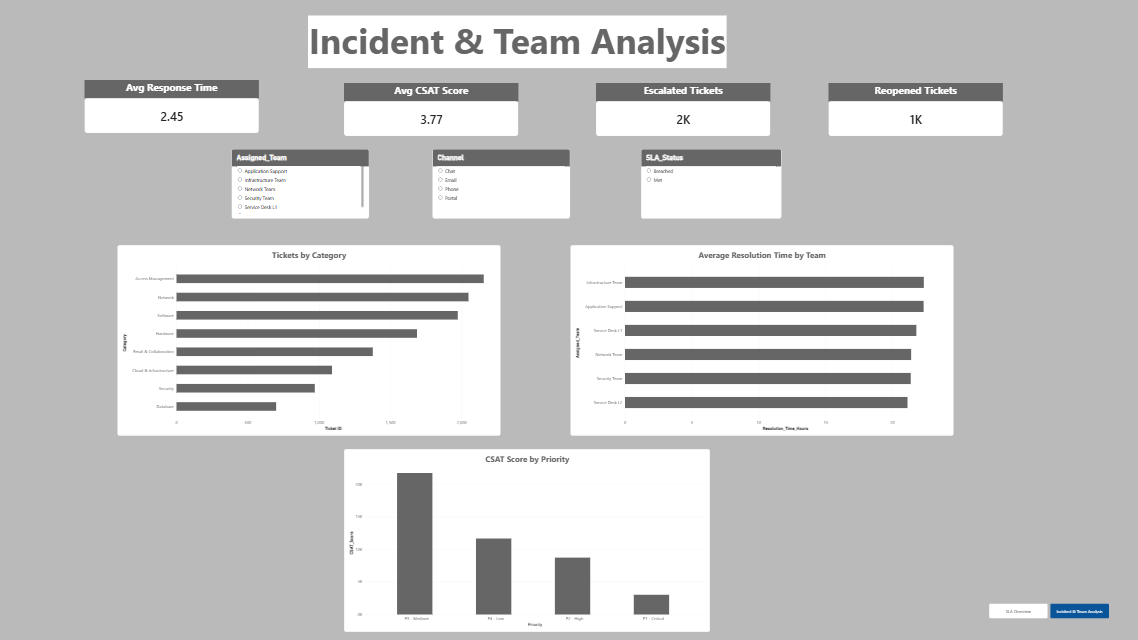

The page's visual inventory and layout, read from the dashboard file:
{"tool":"powerbi","page":{"name":"Incident & Team Analysis","canvas":[3840,2160],"ordinal":1},"visuals":[{"type":"textbox","box":[1050,55,1395,175],"z":0},{"type":"cardVisual","title":"Avg Response Time","fields":{"Data":["ServiceDesk.Avg Response Time"]},"box":[304.4,268,581.5,177.2],"z":1},{"type":"cardVisual","title":"Avg CSAT Score","fields":{"Data":["ServiceDesk.Avg CSAT Score"]},"box":[1170,280,581.5,177.2],"z":2},{"type":"cardVisual","title":"Escalated Tickets","fields":{"Data":["ServiceDesk.Escalated Tickets"]},"box":[2010,280,581.5,177.2],"z":3},{"type":"cardVisual","title":"Reopened Tickets","fields":{"Data":["ServiceDesk.Reopened Tickets"]},"box":[2785,280,581.5,177.2],"z":4},{"type":"listSlicer","fields":{"Values":["ServiceDesk.Assigned_Team"]},"box":[795,499.7,458.8,231.7],"z":5},{"type":"listSlicer","fields":{"Values":["ServiceDesk.Channel"]},"box":[1462.7,499.7,458.8,231.7],"z":6},{"type":"listSlicer","fields":{"Values":["ServiceDesk.SLA_Status"]},"box":[2157.7,499.7,467.9,231.7],"z":7},{"type":"clusteredBarChart","title":"Tickets by Category","fields":{"Category":["ServiceDesk.Category"],"Y":["CountNonNull(ServiceDesk.Ticket_ID)"]},"box":[415,820,1276.5,636],"z":8},{"type":"clusteredBarChart","title":"Average Resolution Time by Team","fields":{"Category":["ServiceDesk.Assigned_Team"],"Y":["Avg(ServiceDesk.Resolution_Time_Hours)"]},"box":[1925,820,1276.5,636],"z":9},{"type":"clusteredColumnChart","title":"CSAT Score by Priority","fields":{"Category":["ServiceDesk.Priority"],"Y":["Sum(ServiceDesk.CSAT_Score)"]},"box":[1170,1500,1220,610],"z":10},{"type":"pageNavigator","box":[3320,2015,400,50],"z":11}]}

Visuals, with their boxes in screenshot pixels (x1, y1, x2, y2), scaled from the page's 3840x2160 canvas onto the 1138x640 screenshot:
textbox: {"left": 311, "top": 16, "right": 725, "bottom": 68}
"Avg Response Time" cardVisual: {"left": 90, "top": 79, "right": 263, "bottom": 132}
"Avg CSAT Score" cardVisual: {"left": 347, "top": 83, "right": 519, "bottom": 135}
"Escalated Tickets" cardVisual: {"left": 596, "top": 83, "right": 768, "bottom": 135}
"Reopened Tickets" cardVisual: {"left": 825, "top": 83, "right": 998, "bottom": 135}
listSlicer - ServiceDesk.Assigned_Team: {"left": 236, "top": 148, "right": 372, "bottom": 217}
listSlicer - ServiceDesk.Channel: {"left": 433, "top": 148, "right": 569, "bottom": 217}
listSlicer - ServiceDesk.SLA_Status: {"left": 639, "top": 148, "right": 778, "bottom": 217}
"Tickets by Category" clusteredBarChart: {"left": 123, "top": 243, "right": 501, "bottom": 431}
"Average Resolution Time by Team" clusteredBarChart: {"left": 570, "top": 243, "right": 949, "bottom": 431}
"CSAT Score by Priority" clusteredColumnChart: {"left": 347, "top": 444, "right": 708, "bottom": 625}
pageNavigator: {"left": 984, "top": 597, "right": 1102, "bottom": 612}
